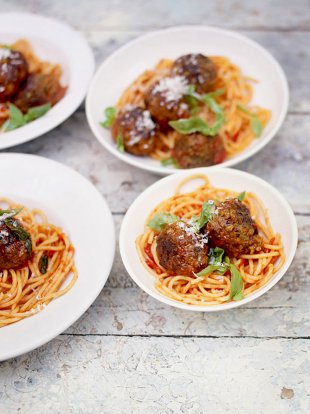meatballs: (197, 197, 260, 250), (159, 221, 207, 271)
plain spaghetti: (5, 275, 52, 307)
